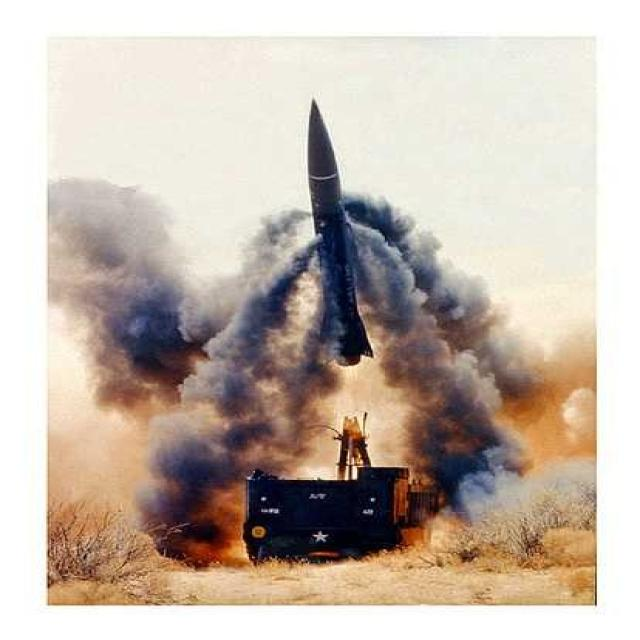missile: (284, 88, 388, 374)
